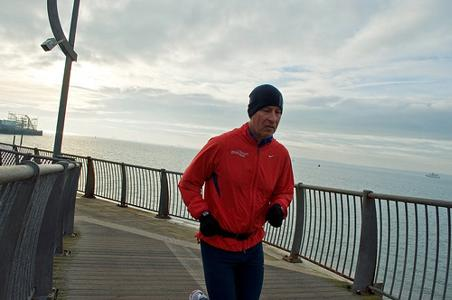person: (179, 84, 297, 300)
